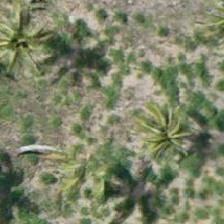coconut_tree: (120, 91, 210, 181), (0, 0, 58, 81)
